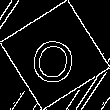O_N: (28, 25, 82, 85)
